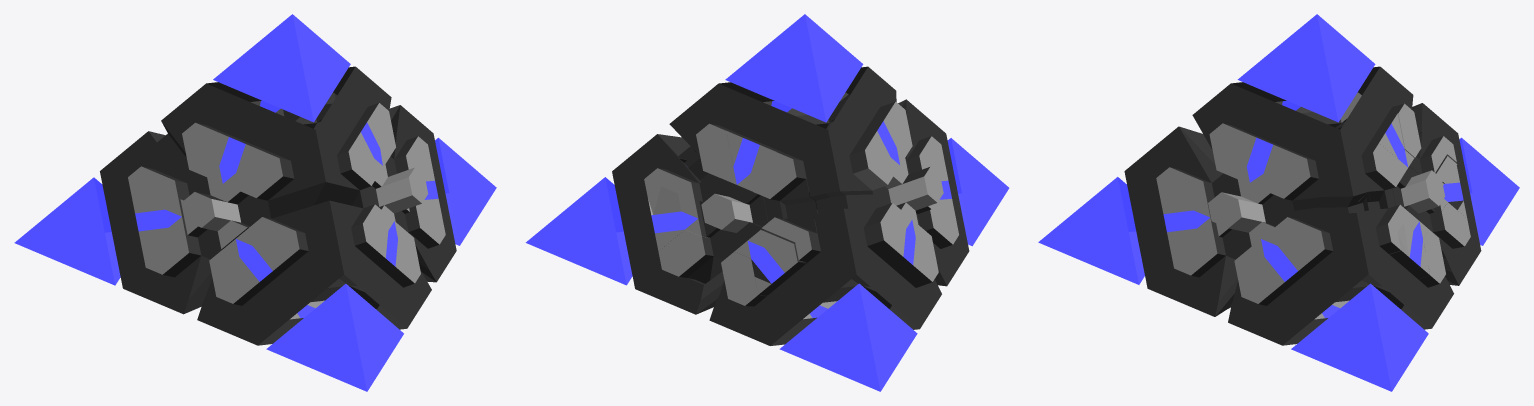
Rendered from tmBs.gltf.
The picture shows the model from 3 angles, left to right: view 1: azimuth 30°, elevation 25°; view 2: azimuth 150°, elevation 25°; view 3: azimuth 270°, elevation 25°; orthographic projection.
Visible parts, largest first — view 1: ConeBlue; view 2: ConeBlue; view 3: ConeBlue.
Boxes of the visible parts, bbox=[...] form: ConeBlue: bbox=[14, 14, 496, 391]; ConeBlue: bbox=[525, 14, 1009, 391]; ConeBlue: bbox=[1038, 14, 1519, 391].
Size of the model in its own units: 0.3346 by 0.2186 by 0.3336.
